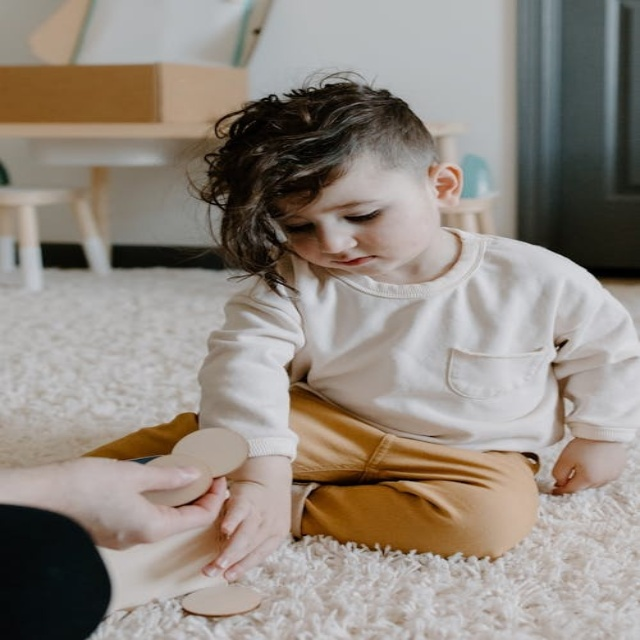Sin_gafas: (273, 186, 394, 236)
Sin_guantes: (3, 456, 229, 550), (195, 467, 290, 582), (543, 429, 634, 498)
Sin_mascara: (312, 244, 407, 275)
